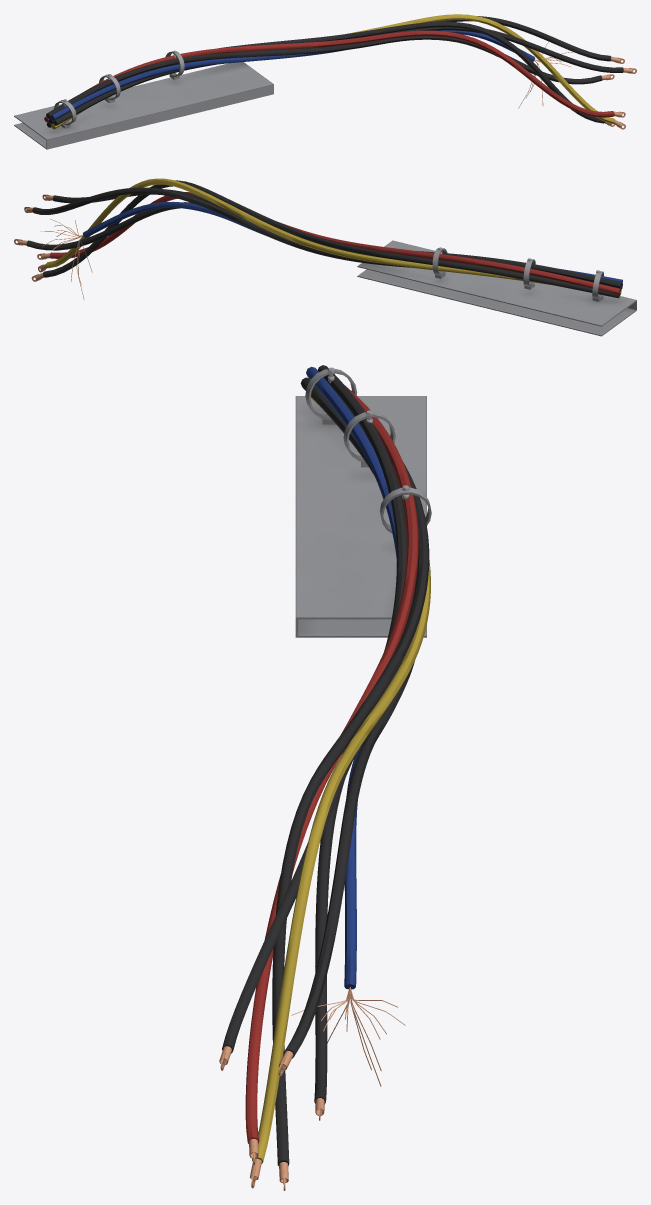
Rendered from industrial_cable_bundle.glb.
3 views of the same model, one above another, from view 1: azimuth 30°, elevation 25°; view 2: azimuth 150°, elevation 25°; view 3: azimuth 270°, elevation 25° (orthographic). The views are drawn at different scales.
Parts seen in each view (by area): view 1: industrial_cable_bundle_paint, industrial_cable_bundle_rubber, industrial_cable_bundle_cable_red, industrial_cable_bundle_cable_blue, industrial_cable_bundle_cable_yellow, industrial_cable_bundle_copper; view 2: industrial_cable_bundle_paint, industrial_cable_bundle_rubber, industrial_cable_bundle_cable_yellow, industrial_cable_bundle_cable_red, industrial_cable_bundle_cable_blue, industrial_cable_bundle_copper; view 3: industrial_cable_bundle_paint, industrial_cable_bundle_rubber, industrial_cable_bundle_cable_yellow, industrial_cable_bundle_cable_red, industrial_cable_bundle_cable_blue, industrial_cable_bundle_copper.
Boxes of the visible parts, x1=… form: industrial_cable_bundle_paint: x1=14, y1=51, x2=273, y2=149; industrial_cable_bundle_rubber: x1=46, y1=16, x2=623, y2=127; industrial_cable_bundle_cable_red: x1=44, y1=30, x2=614, y2=122; industrial_cable_bundle_cable_blue: x1=50, y1=30, x2=535, y2=120; industrial_cable_bundle_cable_yellow: x1=51, y1=14, x2=614, y2=129; industrial_cable_bundle_copper: x1=518, y1=42, x2=636, y2=129; industrial_cable_bundle_paint: x1=357, y1=240, x2=636, y2=336; industrial_cable_bundle_rubber: x1=26, y1=180, x2=622, y2=298; industrial_cable_bundle_cable_yellow: x1=46, y1=178, x2=621, y2=295; industrial_cable_bundle_cable_red: x1=49, y1=192, x2=620, y2=294; industrial_cable_bundle_cable_blue: x1=83, y1=201, x2=622, y2=285; industrial_cable_bundle_copper: x1=14, y1=194, x2=92, y2=299; industrial_cable_bundle_paint: x1=295, y1=368, x2=431, y2=637; industrial_cable_bundle_rubber: x1=222, y1=365, x2=429, y2=1165; industrial_cable_bundle_cable_yellow: x1=252, y1=397, x2=430, y2=1163; industrial_cable_bundle_cable_red: x1=245, y1=385, x2=418, y2=1143; industrial_cable_bundle_cable_blue: x1=306, y1=366, x2=396, y2=989; industrial_cable_bundle_copper: x1=219, y1=987, x2=405, y2=1190.
Bounding box in the file's own units: 3.03 × 0.7784 × 0.486.
Materials: 7 (1 with a texture image).
